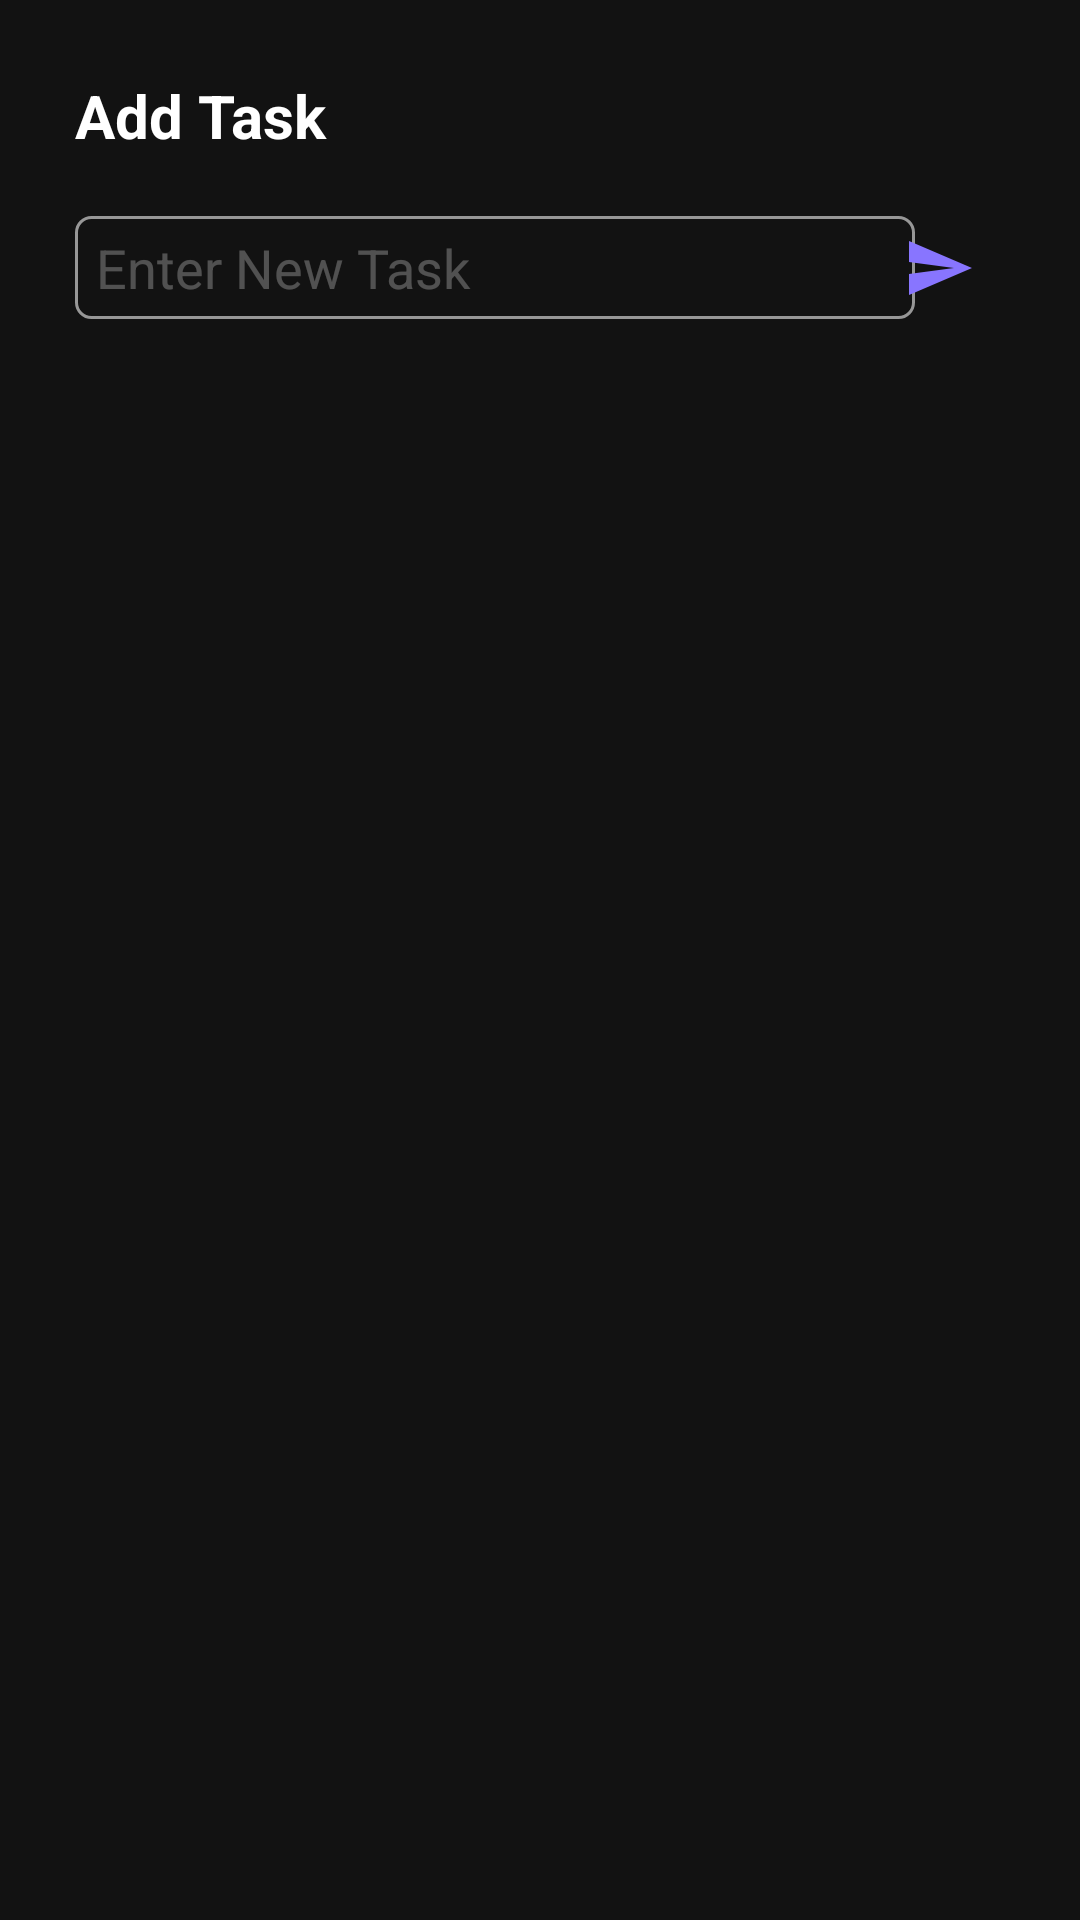

Where to tap for icons on this 1080w x 1920h app screen, as (x,y):
send: (940,268)
